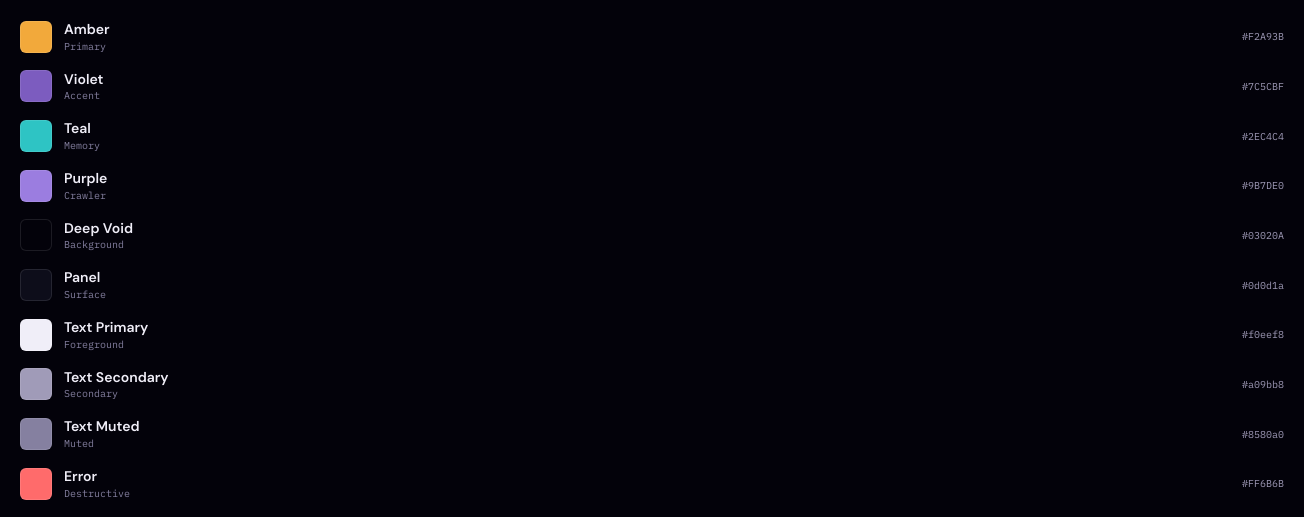
Test: BrandPalette › shows "Copied!" after clicking a color button
Click the button "Amber Primary #F2A93B".
click(36, 37)  # box [12,12,1292,62]
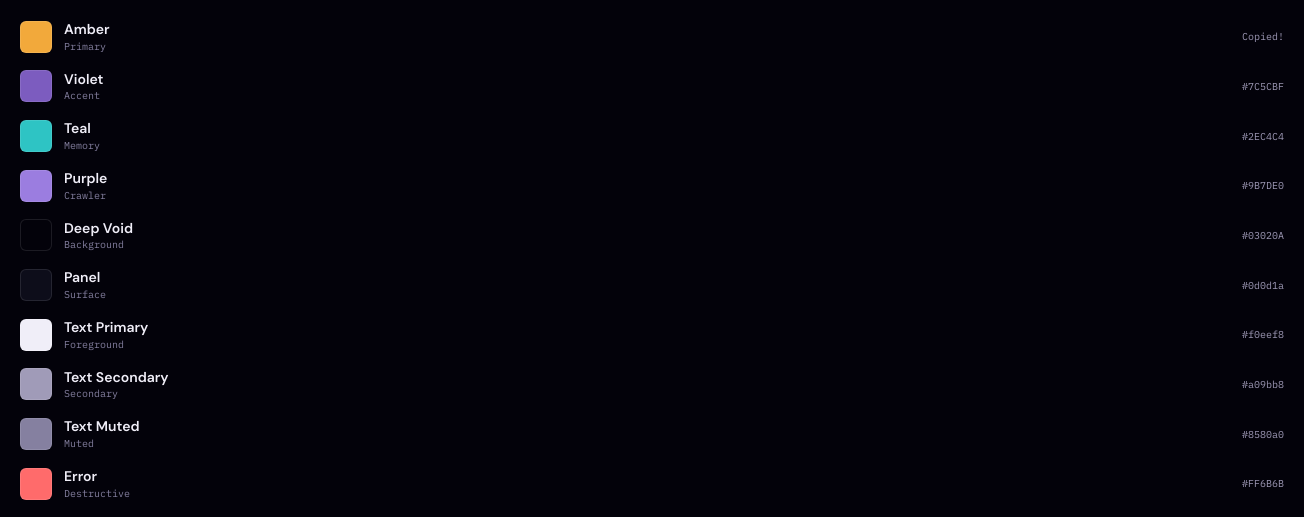
Now the text "Copied!" is shown, box [1242,29,1284,44]
